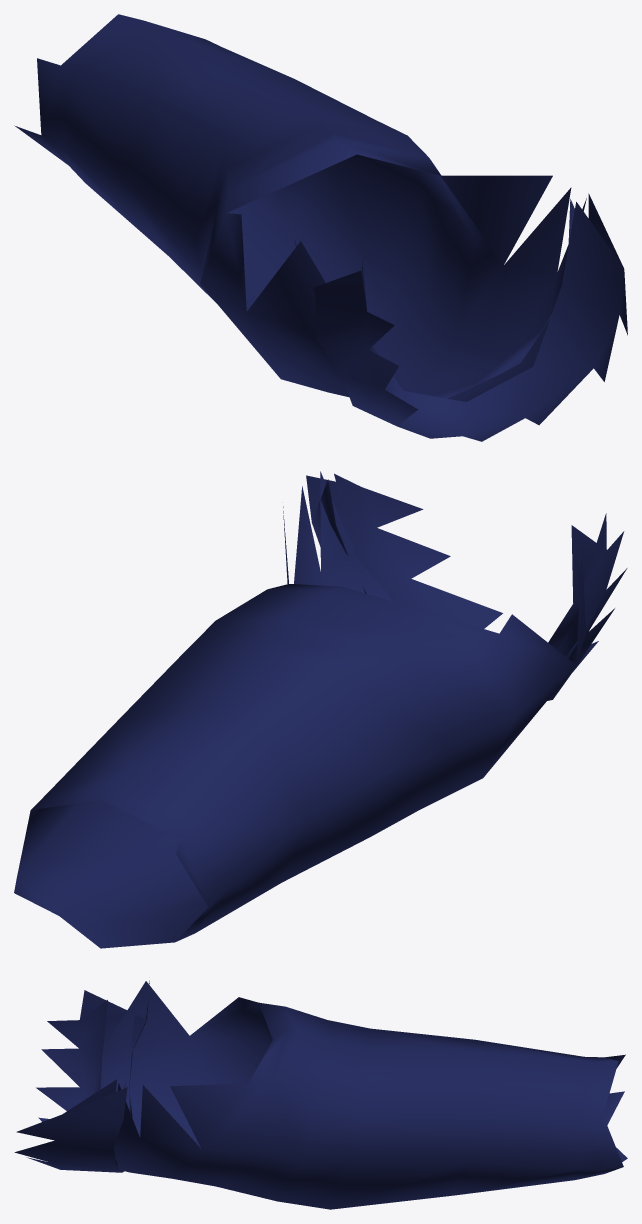
The model's file is thigh_r.obj.
The picture shows the model from 3 angles, top to bottom: view 1: azimuth 30°, elevation 25°; view 2: azimuth 150°, elevation 25°; view 3: azimuth 270°, elevation 25°; orthographic projection. The views are drawn at different scales.
Bounding box in the file's own units: 0.2535 × 0.176 × 0.61.
